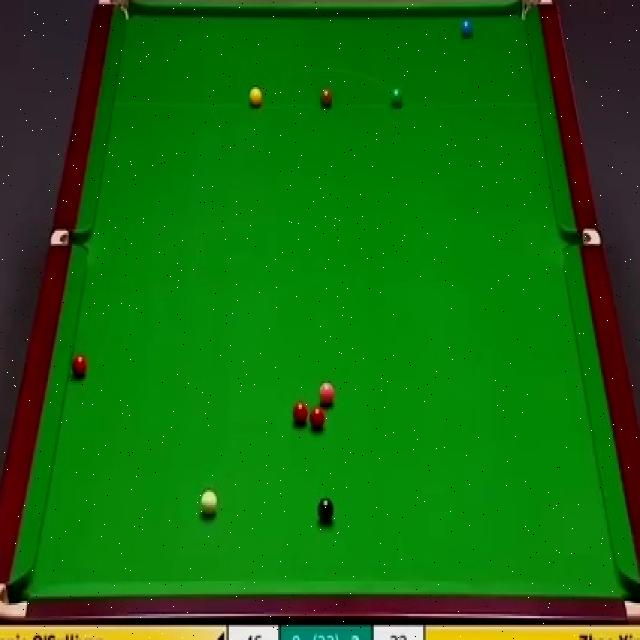black-ball: (316, 497, 334, 520)
blue-ball: (459, 18, 475, 40)
brown-ball: (319, 90, 333, 108)
green-ball: (389, 85, 404, 111)
pink-ball: (317, 382, 336, 406)
red-ball: (310, 406, 326, 435), (70, 354, 88, 376), (292, 401, 308, 425)
white-ball: (200, 487, 218, 520)
yellow-ball: (248, 86, 263, 109)
